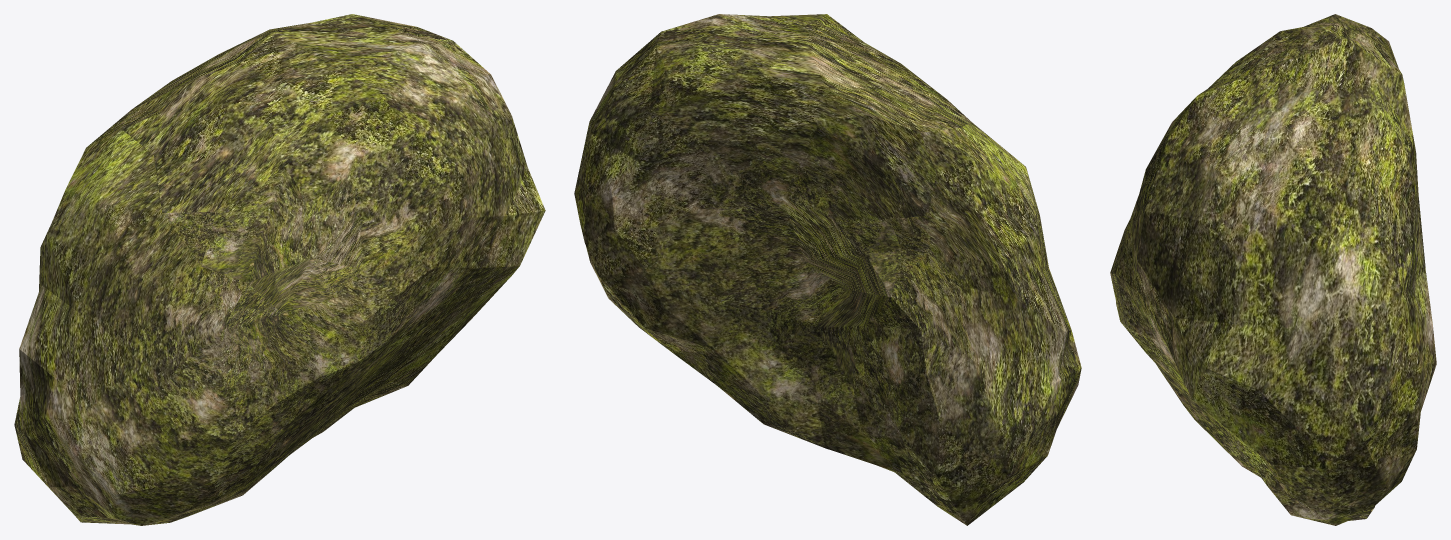
The model's file is boulder_1.dae.
The picture shows the model from 3 angles, left to right: view 1: azimuth 30°, elevation 25°; view 2: azimuth 150°, elevation 25°; view 3: azimuth 270°, elevation 25°; orthographic projection. The views are drawn at different scales.
Parts seen in each view (by area): view 1: node; view 2: node; view 3: node.
Boxes of the visible parts, x1,y1,x2,y2 form: node: (14,14,545,525); node: (574,14,1081,525); node: (1110,14,1436,525).
Bounding box in the file's own units: 5.83 × 5.11 × 2.92.
1 material, 1 textured.
